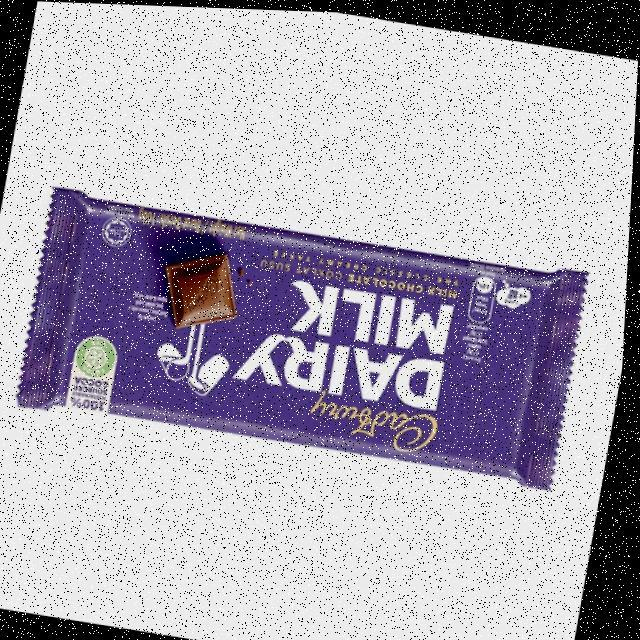cadbury_chocolate: (48, 198, 505, 425)
